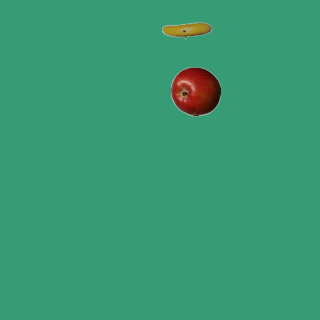Apple Braeburn: (170, 66, 220, 116)
Banana: (161, 5, 211, 55)
